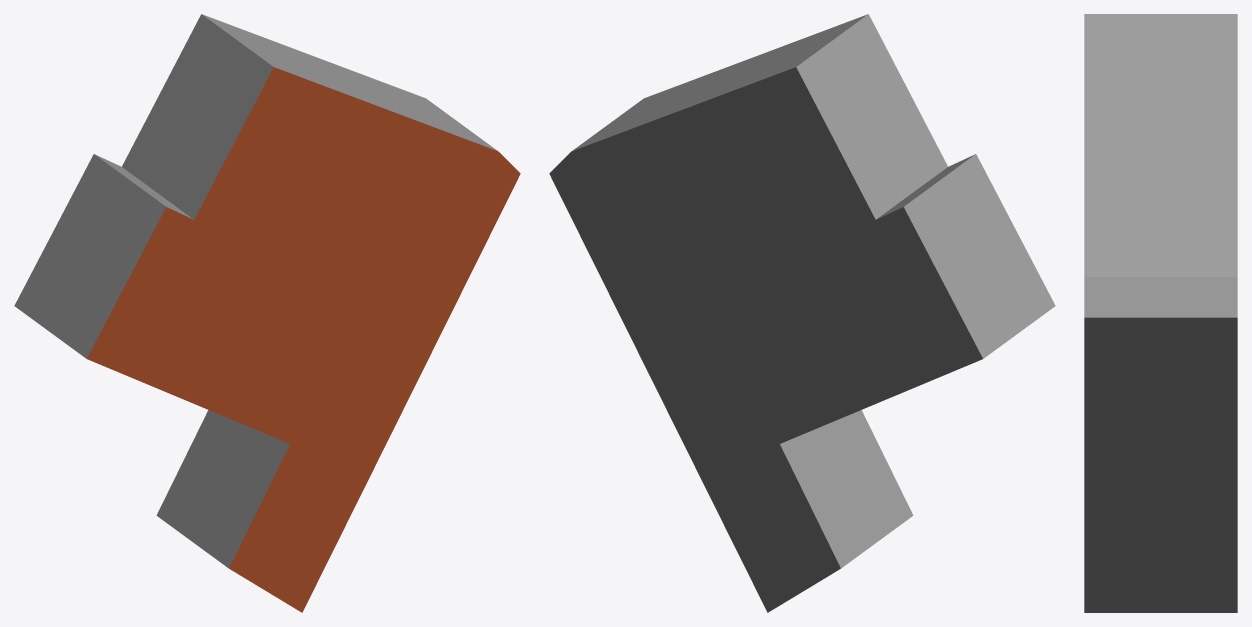
File: construction_4041_assumed_A_Casa_h6m.obj
3 renders of one model, left to right at view 1: azimuth 30°, elevation 25°; view 2: azimuth 150°, elevation 25°; view 3: azimuth 270°, elevation 25°, orthographic. The views are drawn at different scales.
Visible parts, largest first — view 1: construction_4041_assumed_A_Casa; view 2: construction_4041_assumed_A_Casa; view 3: construction_4041_assumed_A_Casa.
Boxes of the visible parts, left/top/right/bottom form: construction_4041_assumed_A_Casa: left=14, top=14, right=520, bottom=612; construction_4041_assumed_A_Casa: left=549, top=14, right=1055, bottom=612; construction_4041_assumed_A_Casa: left=1084, top=14, right=1237, bottom=612.
Size of the model in its own units: 20.74 by 25.25 by 6.
